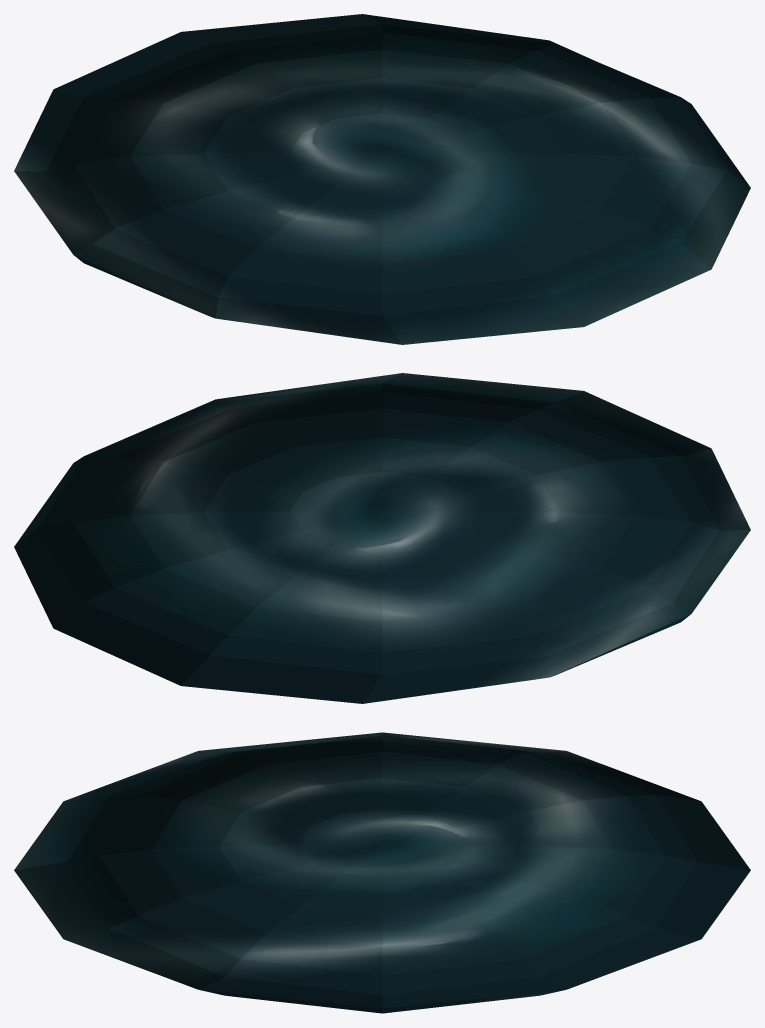
File: remolino.obj
3 views of the same model, one above another, from view 1: azimuth 30°, elevation 25°; view 2: azimuth 150°, elevation 25°; view 3: azimuth 270°, elevation 25° (orthographic). The views are drawn at different scales.
Parts seen in each view (by area): view 1: planeta:pSphere1; view 2: planeta:pSphere1; view 3: planeta:pSphere1.
Part boxes in pixels (bbox=[...]): planeta:pSphere1: bbox=[14, 14, 750, 344]; planeta:pSphere1: bbox=[14, 373, 750, 703]; planeta:pSphere1: bbox=[14, 732, 750, 1013].
Bounding box in the file's own units: 2 × 0.1625 × 2.26.
1 material, 1 textured.
